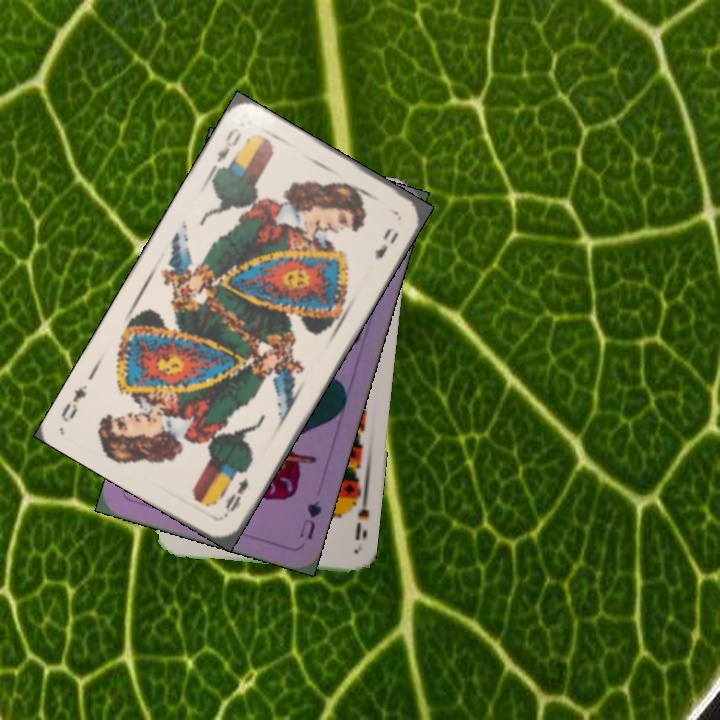EO: (207, 123, 245, 176), (220, 474, 251, 519)
GU: (295, 496, 325, 543)
S9: (345, 490, 372, 544)
